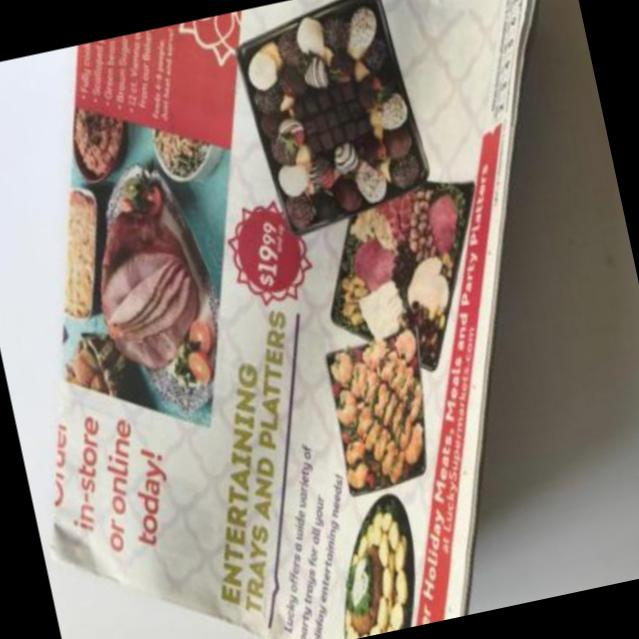cardboard paper: (50, 0, 532, 639)
